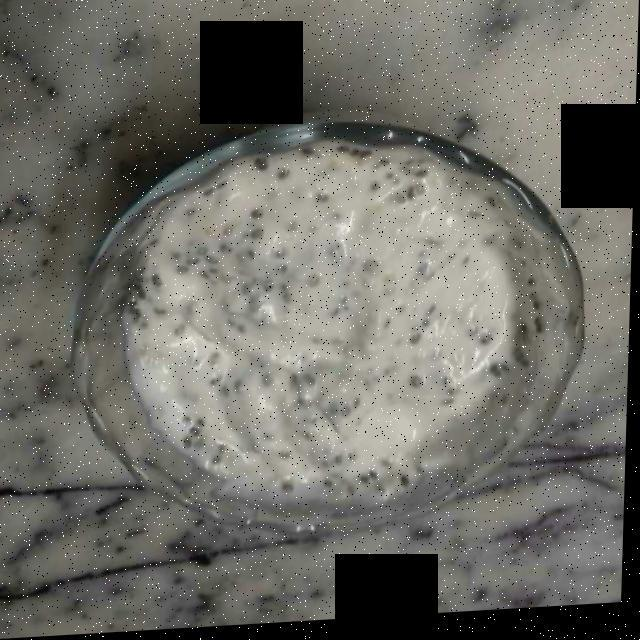chia-grains: (135, 160, 508, 501)
yogurt: (126, 140, 556, 506)
